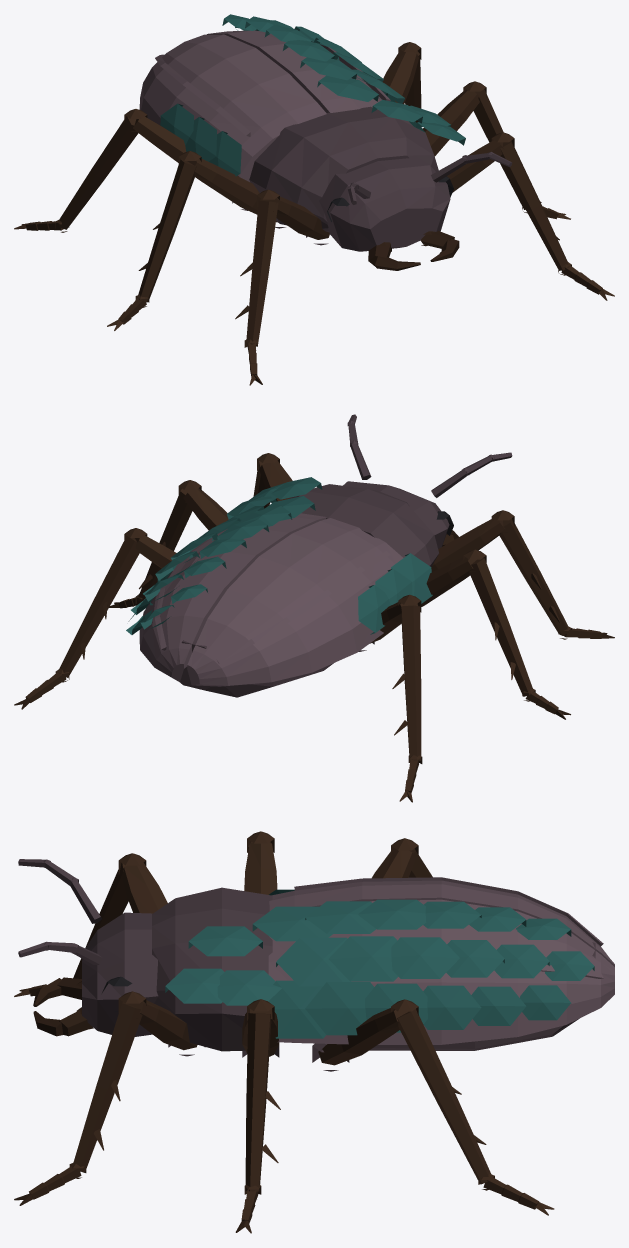
The model's file is evolver.glb.
3 renders of one model, top to bottom at view 1: azimuth 30°, elevation 25°; view 2: azimuth 150°, elevation 25°; view 3: azimuth 270°, elevation 25°, orthographic. The views are drawn at different scales.
Parts seen in each view (by area): view 1: BeetlePlate_01, ThoraxCore, HeadBase001, evo_scale, BeetlePlate_00, Tibia001, Tibia003, Tibia000, Tibia005, Femur003, Femur001, Femur002 (+4 smaller); view 2: BeetlePlate_01, evo_scale, BeetlePlate_00, ThoraxCore, Tibia005, Tibia004, Tibia003, Tibia001, HeadBase001, Femur001, Tibia002, Femur003 (+5 smaller); view 3: evo_scale, ThoraxCore, BeetlePlate_00, BeetlePlate_01, HeadBase001, Tibia004, Tibia002, Tibia000, Femur004, Femur000, Femur001, Femur003 (+6 smaller).
Boxes of the visible parts, left/top/right/bottom form: BeetlePlate_01: left=139, top=34, right=326, bottom=181; ThoraxCore: left=249, top=106, right=438, bottom=232; HeadBase001: left=319, top=155, right=450, bottom=251; evo_scale: left=160, top=14, right=465, bottom=176; BeetlePlate_00: left=207, top=30, right=413, bottom=126; Tibia001: left=235, top=200, right=278, bottom=345; Tibia003: left=137, top=159, right=196, bottom=302; Tibia000: left=500, top=141, right=569, bottom=270; Tibia005: left=58, top=116, right=138, bottom=229; Femur003: left=187, top=158, right=277, bottom=222; Femur001: left=260, top=196, right=329, bottom=239; Femur002: left=423, top=89, right=479, bottom=156; BeetlePlate_01: left=187, top=518, right=403, bottom=686; evo_scale: left=126, top=477, right=432, bottom=634; BeetlePlate_00: left=139, top=513, right=326, bottom=682; ThoraxCore: left=289, top=484, right=438, bottom=566; Tibia005: left=392, top=605, right=421, bottom=760; Tibia004: left=59, top=536, right=140, bottom=677; Tibia003: left=469, top=558, right=533, bottom=696; Tibia001: left=499, top=518, right=569, bottom=635; HeadBase001: left=343, top=481, right=449, bottom=548; Femur001: left=431, top=518, right=505, bottom=572; Tibia002: left=137, top=489, right=192, bottom=602; Femur003: left=421, top=557, right=476, bottom=606; evo_scale: left=165, top=889, right=594, bottom=1038; ThoraxCore: left=152, top=887, right=272, bottom=1051; BeetlePlate_00: left=268, top=899, right=614, bottom=1044; BeetlePlate_01: left=269, top=877, right=614, bottom=966; HeadBase001: left=82, top=912, right=158, bottom=1036; Tibia004: left=397, top=1009, right=490, bottom=1184; Tibia002: left=245, top=1013, right=280, bottom=1191; Tibia000: left=72, top=1002, right=142, bottom=1172; Femur004: left=318, top=1008, right=407, bottom=1065; Femur000: left=123, top=1000, right=197, bottom=1050; Femur001: left=122, top=862, right=167, bottom=913; Femur003: left=244, top=843, right=277, bottom=894.
Bounding box in the file's own units: 3.29 × 1.18 × 3.09.
